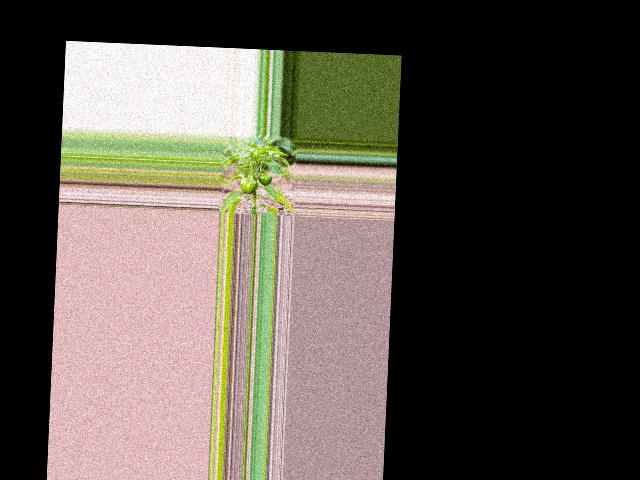bell_pepper: (258, 172, 273, 186)
